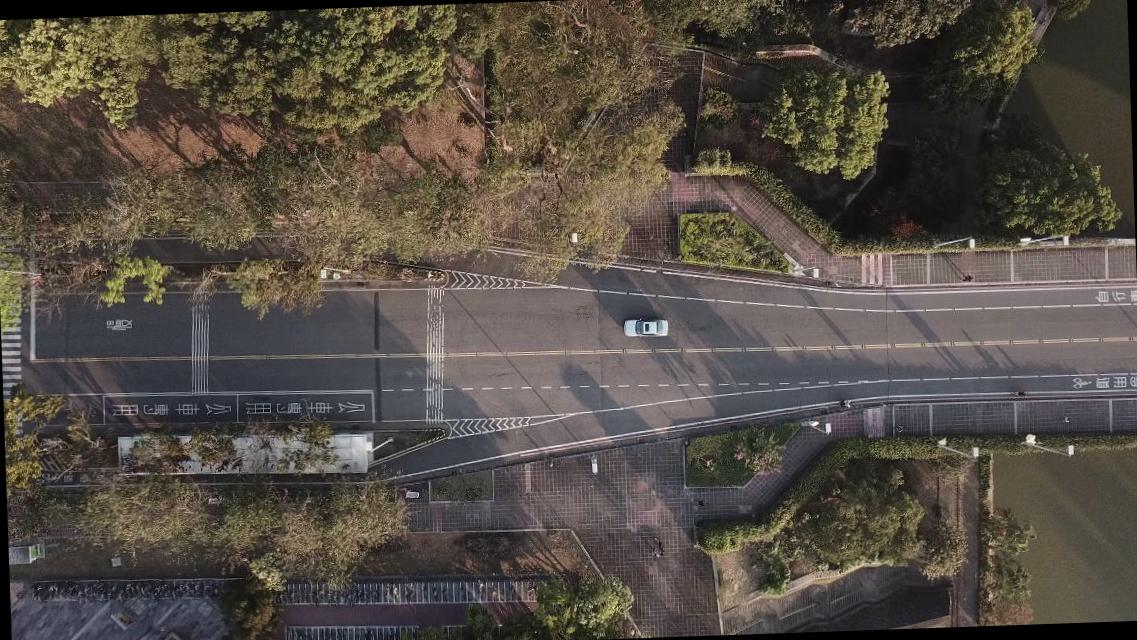vehicle: (623, 316, 668, 340)
